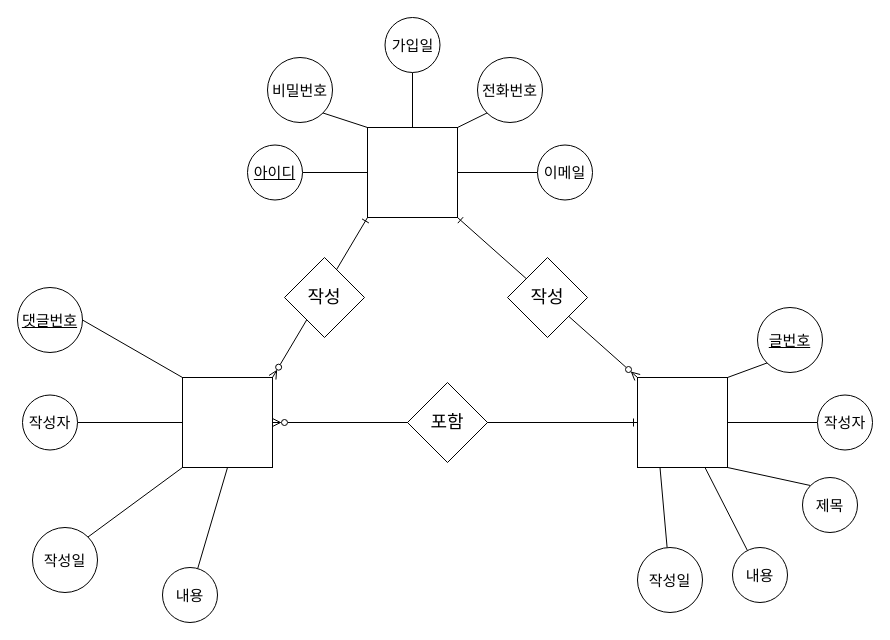
The diagram is 890 pixels wide and 640 high, and some of its shapes have lost their labels. The centre of each missing label's shape, as x and y in pixels:
"게시글" goes at pixel 682 422.
"댓글" goes at pixel 227 422.
"회원" goes at pixel 412 172.
